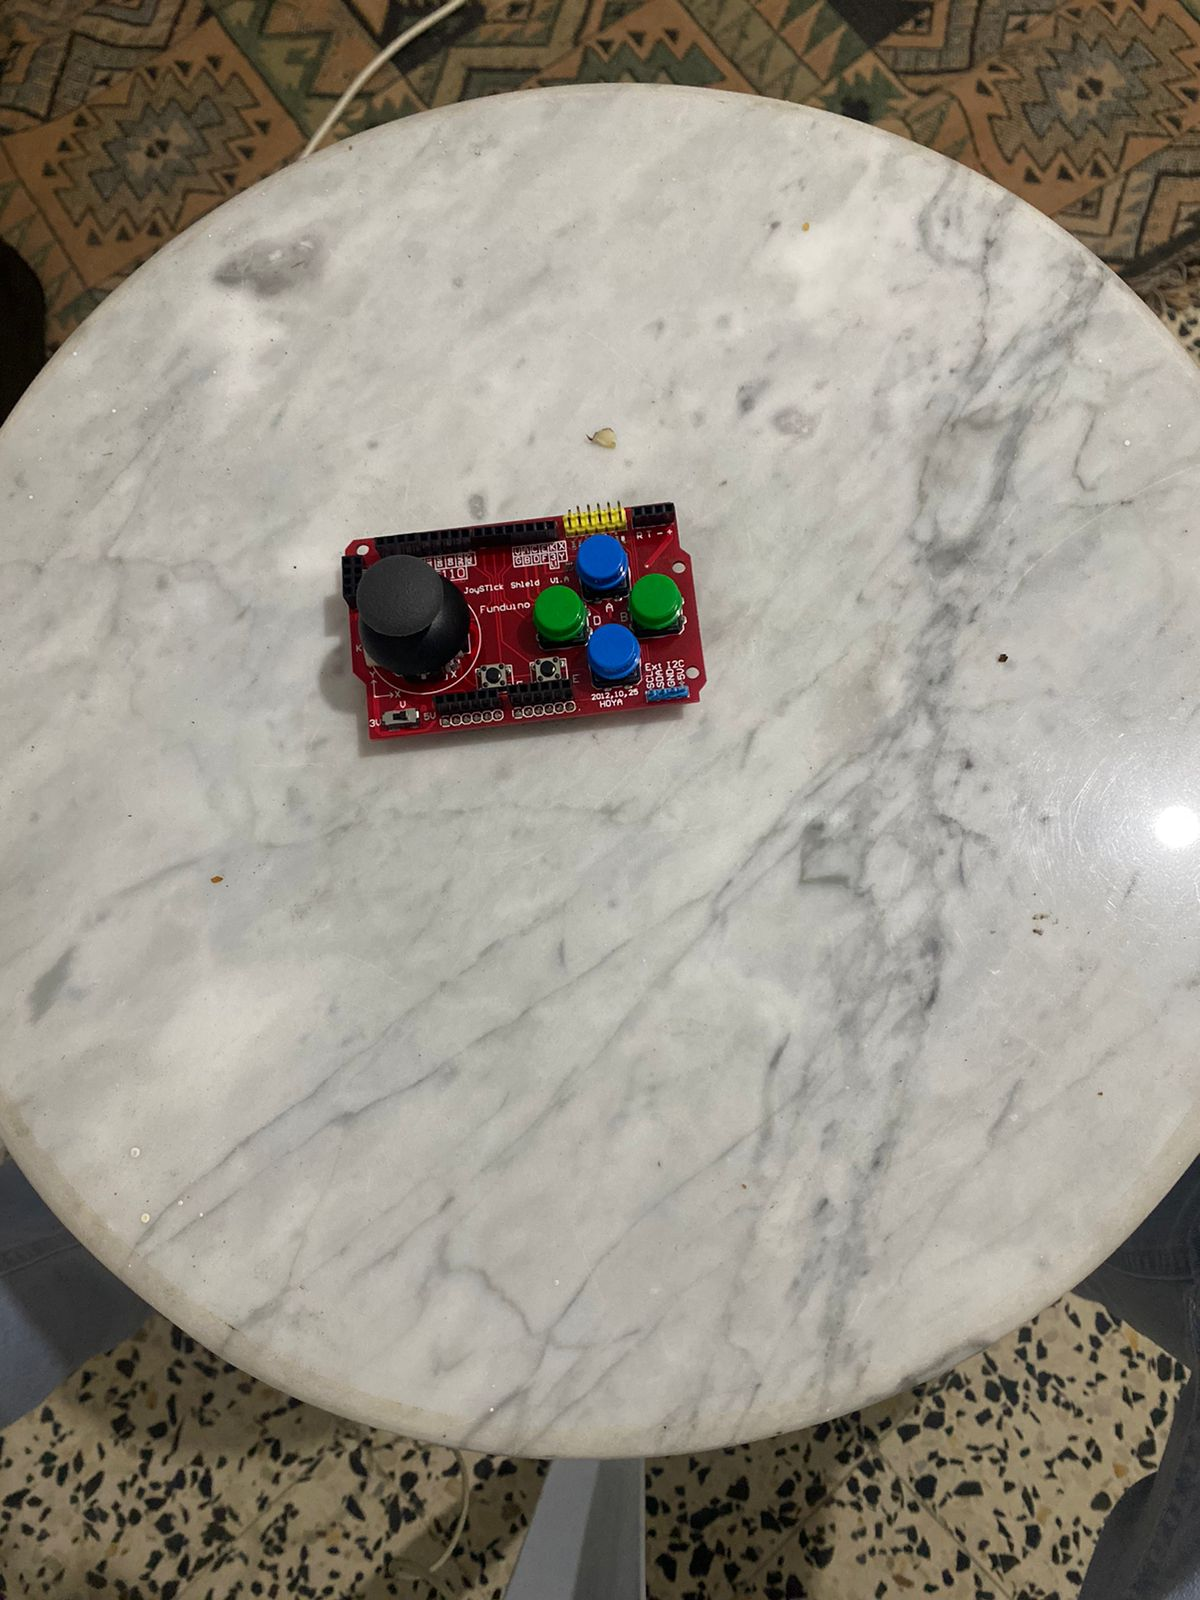Clavier-Joystick: (329, 501, 710, 743)
